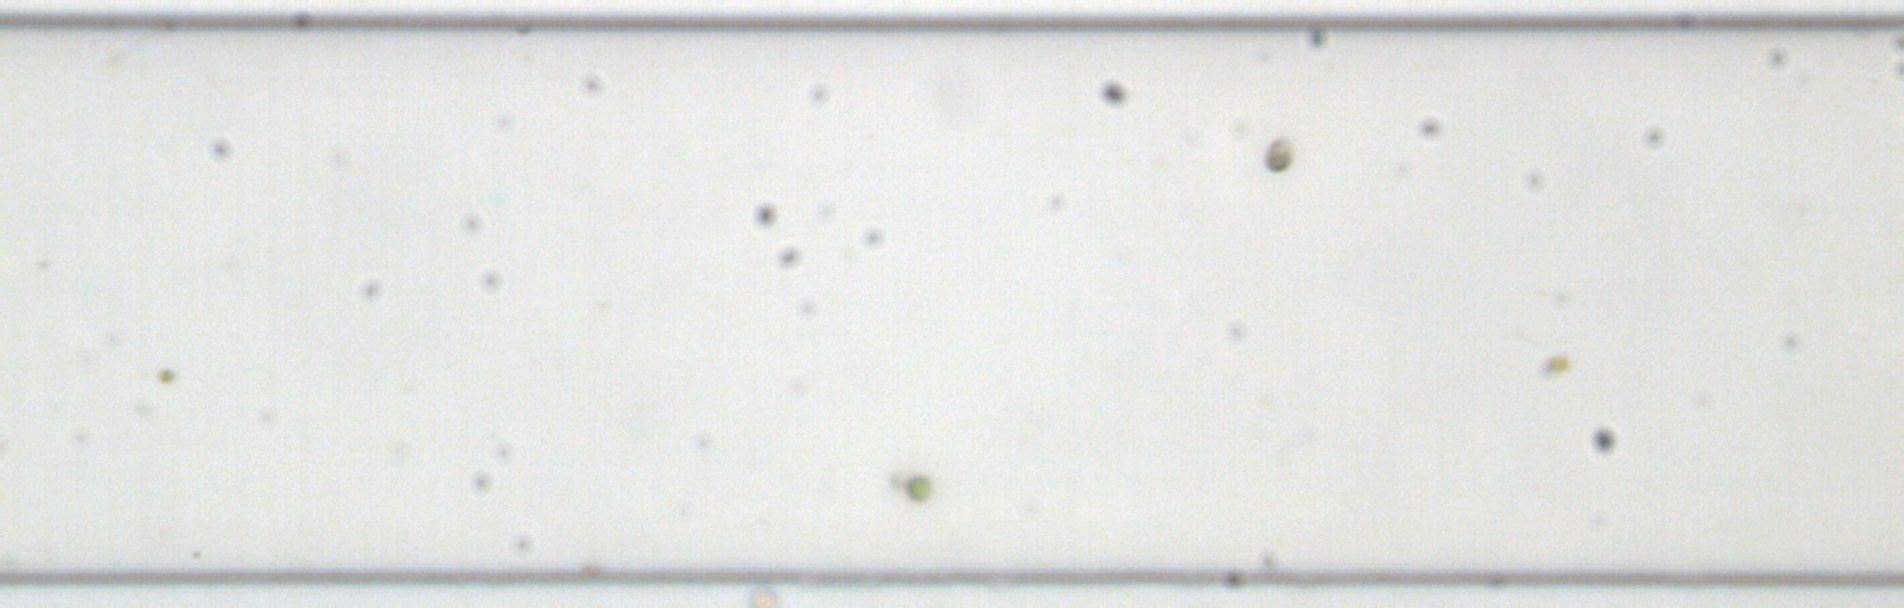Chlorella: (905, 475, 934, 502), (155, 364, 177, 387)
Dunaliella salina: (1260, 136, 1292, 175), (1538, 353, 1570, 376)
